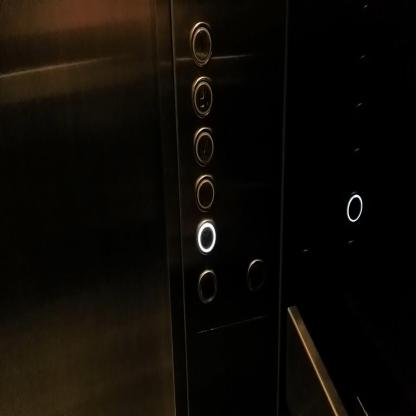1: (190, 20, 212, 67)
B1: (191, 73, 214, 119)
B4: (195, 218, 216, 255)
blur: (194, 126, 215, 166), (194, 174, 214, 212)
empty: (196, 269, 218, 304), (246, 257, 266, 294), (345, 191, 363, 223)
